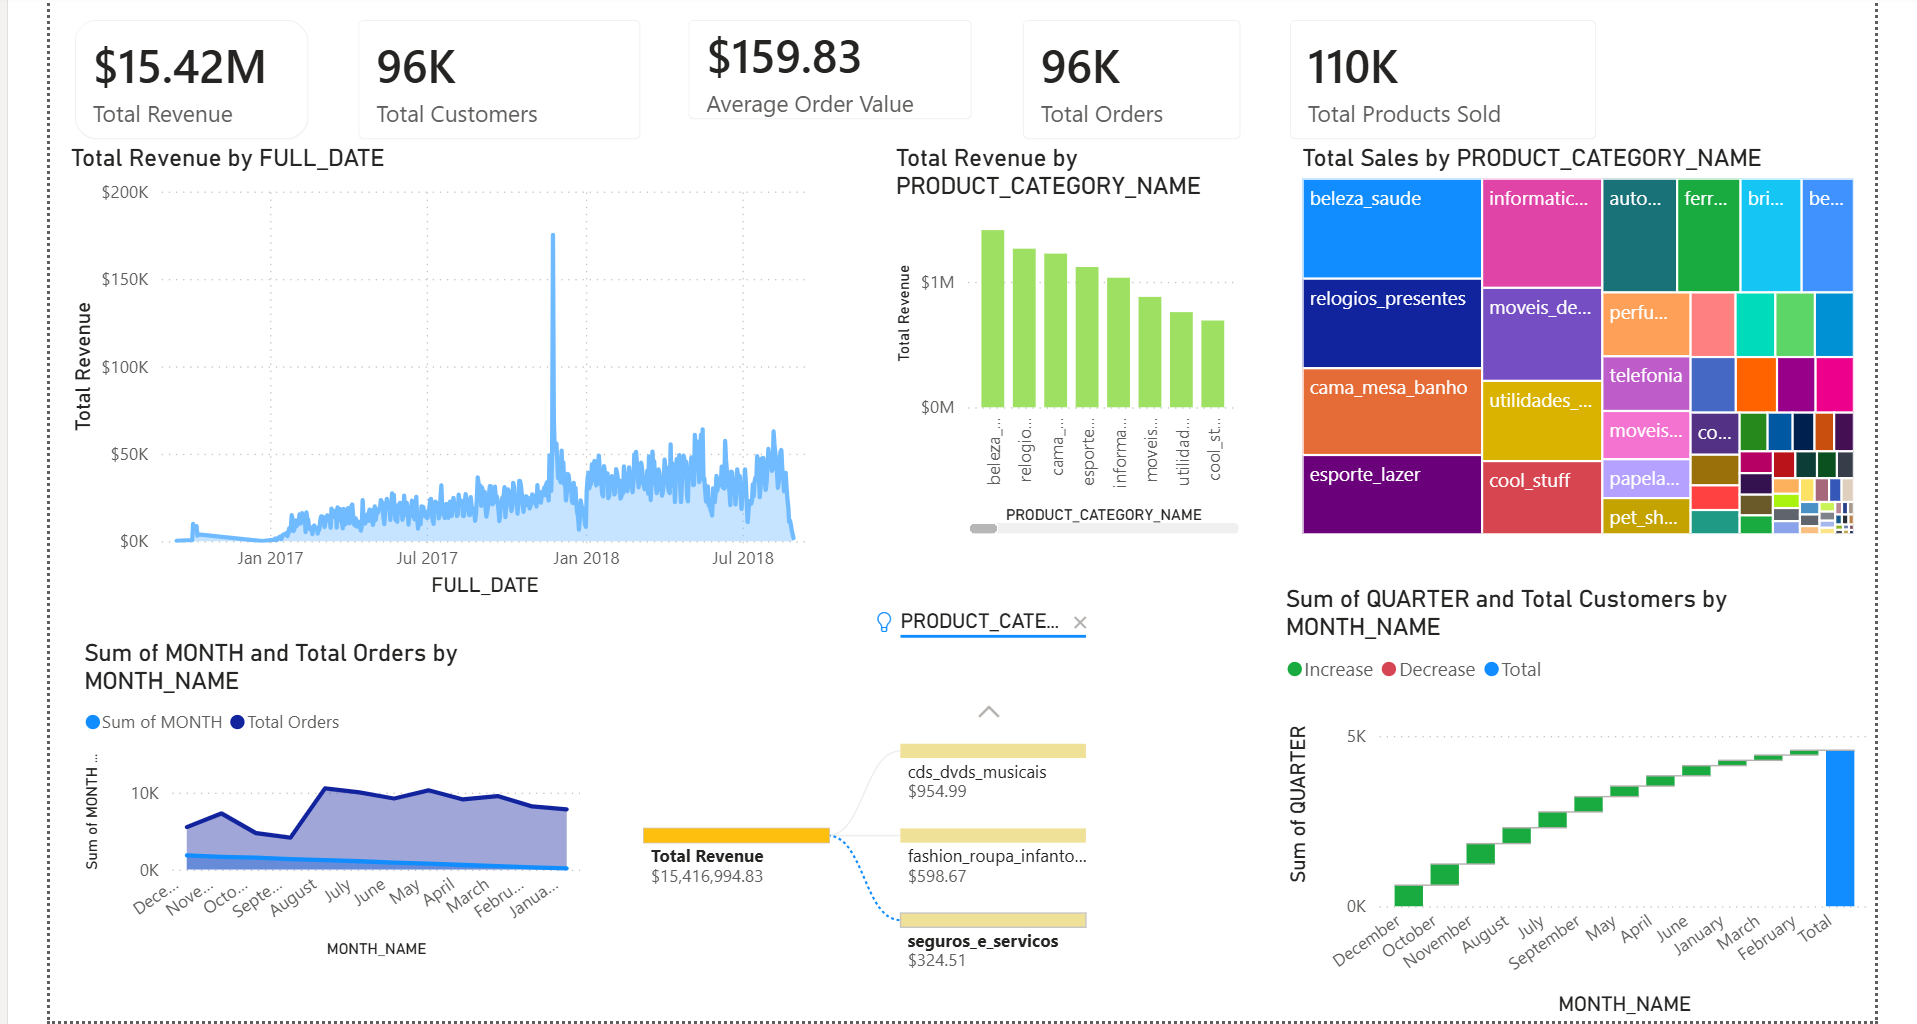

What the dashboard file says about the page in this screenshot:
{"tool":"powerbi","page":{"name":"Overview","canvas":[1280,720],"ordinal":0},"visuals":[{"type":"cardVisual","fields":{"Data":["_MEASURES.Total Revenue"]},"box":[0,0,198.5,118.5],"z":0},{"type":"cardVisual","fields":{"Data":["_MEASURES.Total Orders"]},"box":[664.3,0,187.3,118.5],"z":1000},{"type":"cardVisual","fields":{"Data":["_MEASURES.Total Customers"]},"box":[198.5,0,232.1,118.5],"z":2000},{"type":"cardVisual","fields":{"Data":["_MEASURES.Average Order Value"]},"box":[430.6,0,233.7,104],"z":3000},{"type":"cardVisual","fields":{"Data":["_MEASURES.Total Products Sold"]},"box":[851.6,0,249.7,118.5],"z":4000},{"type":"areaChart","fields":{"Category":["DIM_DATE.FULL_DATE"],"Y":["_MEASURES.Total Revenue"]},"box":[9.4,104.5,538.4,321.5],"z":6000},{"type":"areaChart","fields":{"Y":["Sum(DIM_DATE.MONTH)","_MEASURES.Total Orders"],"Category":["DIM_DATE.MONTH_NAME"]},"box":[18.8,451.4,357.6,227.7],"z":7000},{"type":"decompositionTreeVisual","fields":{"ExplainBy":["DIM_PRODUCT.PRODUCT_CATEGORY_NAME"],"Analyze":["_MEASURES.Total Revenue"]},"box":[386.2,413.8,420,296.2],"z":8000},{"type":"columnChart","fields":{"Category":["DIM_PRODUCT.PRODUCT_CATEGORY_NAME"],"Y":["_MEASURES.Total Revenue"]},"box":[588,104.5,250.5,278.6],"z":9000},{"type":"treemap","fields":{"Group":["DIM_PRODUCT.PRODUCT_CATEGORY_NAME"],"Values":["_MEASURES.Total Sales"]},"box":[873.3,104.5,396.5,278.6],"z":10000},{"type":"waterfallChart","fields":{"Category":["DIM_DATE.MONTH_NAME"],"Y":["Sum(DIM_DATE.QUARTER)"]},"box":[861.2,413.8,418.8,306.2],"z":11000}]}

Visuals, with their boxes on the page's 1280x720 design canvas (x1, y1, x2, y2). These are canvas units, not pixel positions in the 1917x1024 screenshot, which may show the page scaled, cropped or inside an application window:
cardVisual - _MEASURES.Total Revenue: (x1=0, y1=0, x2=198, y2=118)
cardVisual - _MEASURES.Total Orders: (x1=664, y1=0, x2=852, y2=118)
cardVisual - _MEASURES.Total Customers: (x1=198, y1=0, x2=431, y2=118)
cardVisual - _MEASURES.Average Order Value: (x1=431, y1=0, x2=664, y2=104)
cardVisual - _MEASURES.Total Products Sold: (x1=852, y1=0, x2=1101, y2=118)
areaChart - DIM_DATE.FULL_DATE x _MEASURES.Total Revenue: (x1=9, y1=104, x2=548, y2=426)
areaChart - Sum(DIM_DATE.MONTH) x _MEASURES.Total Orders: (x1=19, y1=451, x2=376, y2=679)
decompositionTreeVisual - DIM_PRODUCT.PRODUCT_CATEGORY_NAME x _MEASURES.Total Revenue: (x1=386, y1=414, x2=806, y2=710)
columnChart - DIM_PRODUCT.PRODUCT_CATEGORY_NAME x _MEASURES.Total Revenue: (x1=588, y1=104, x2=838, y2=383)
treemap - DIM_PRODUCT.PRODUCT_CATEGORY_NAME x _MEASURES.Total Sales: (x1=873, y1=104, x2=1270, y2=383)
waterfallChart - DIM_DATE.MONTH_NAME x Sum(DIM_DATE.QUARTER): (x1=861, y1=414, x2=1280, y2=720)
